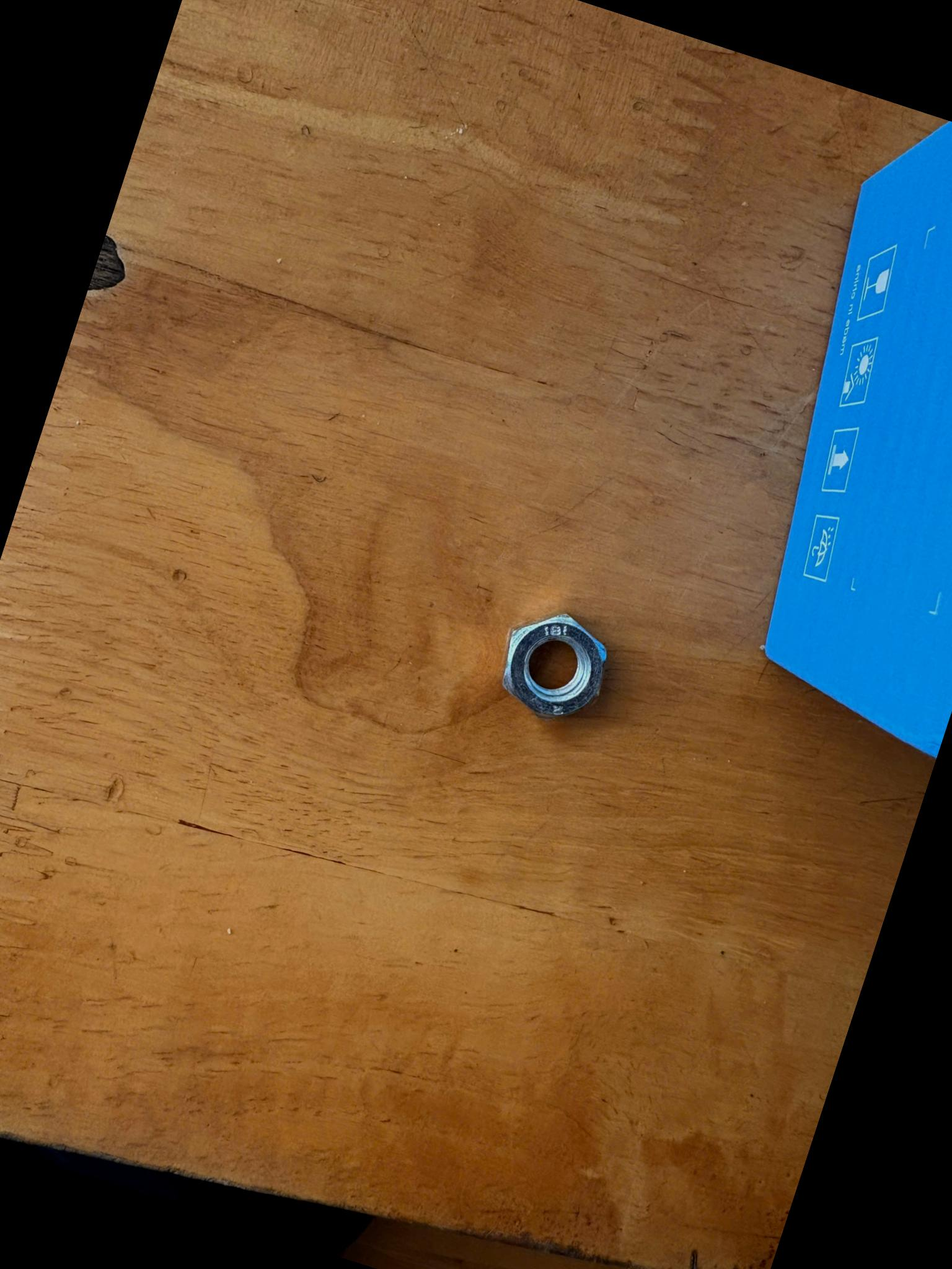nut: (466, 587, 627, 750)
